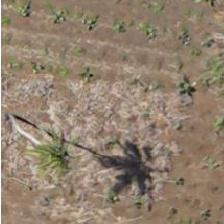coconut_tree: (3, 94, 93, 184)
